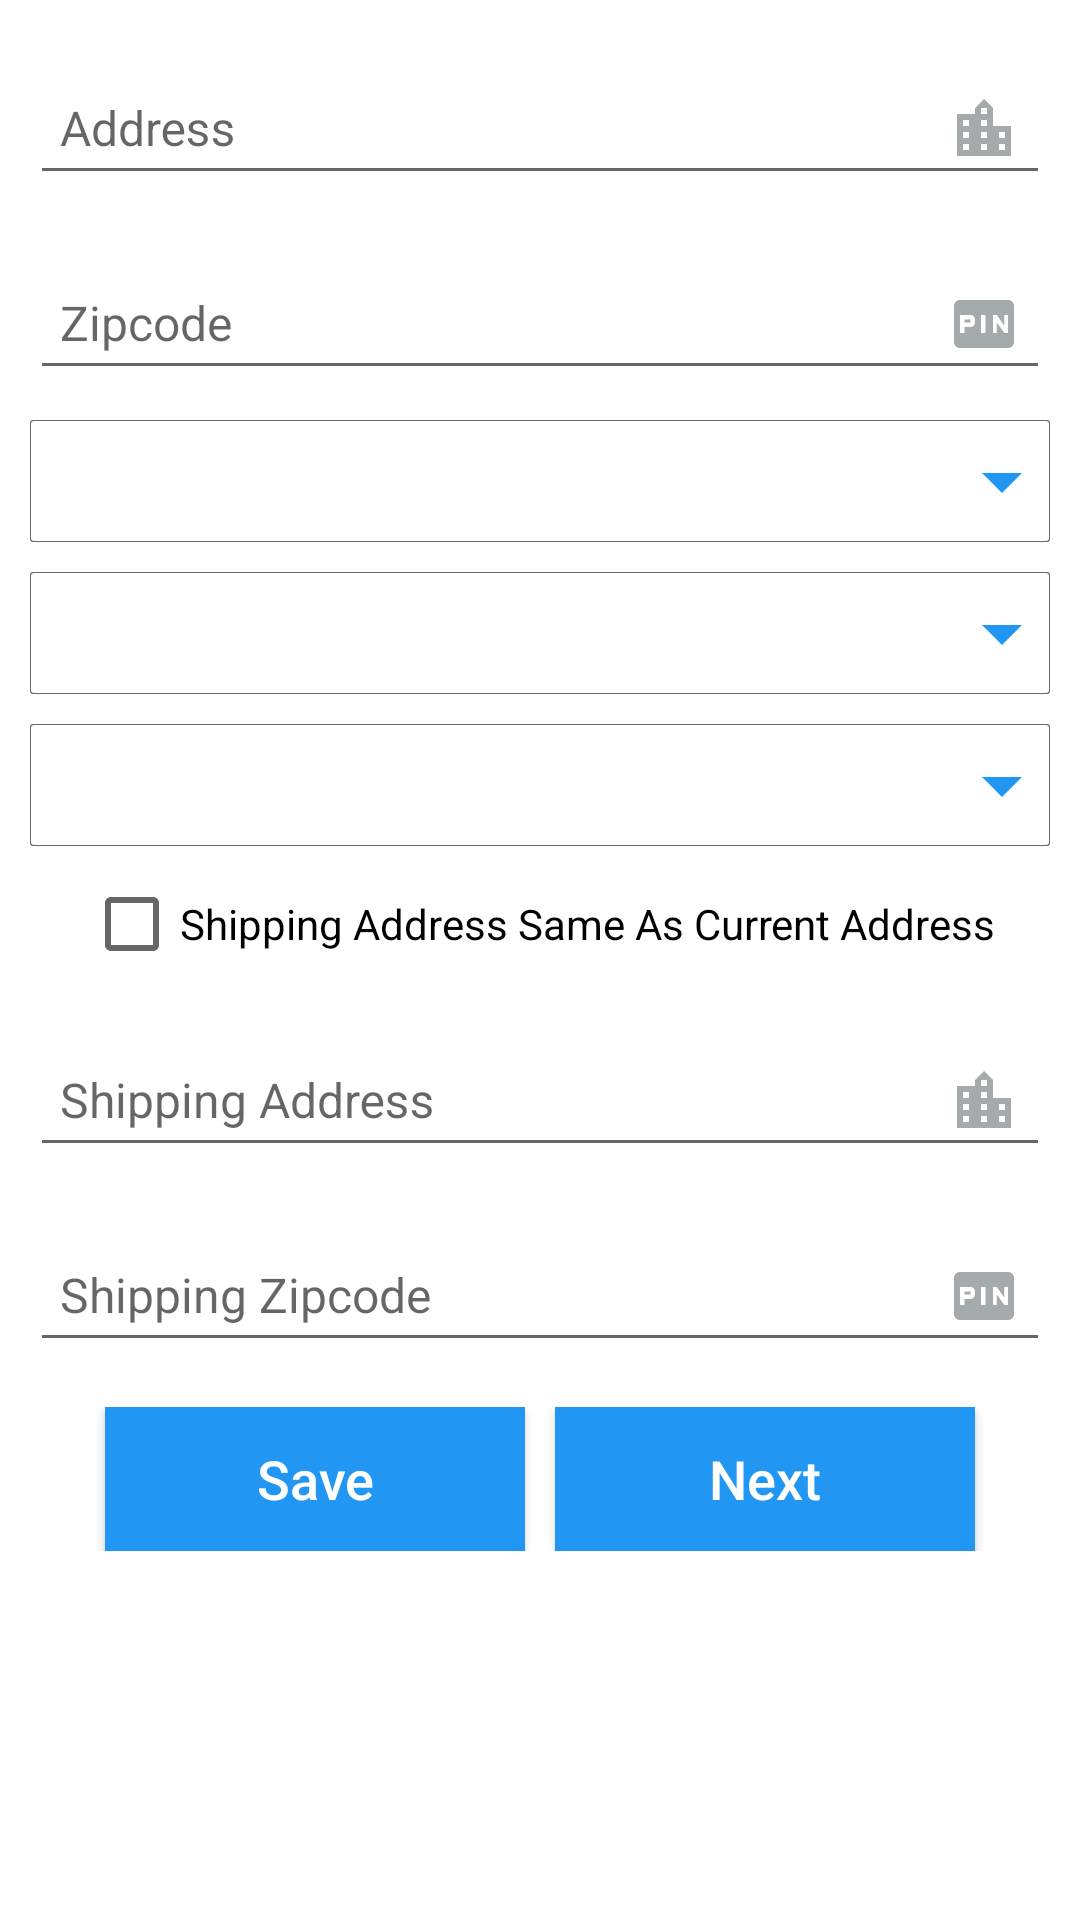

Locate icon controls on the screen. Image size 1080x1920, boxes as (x1, y1, x2, y2).
arrow drop down: (982, 473, 1022, 493), (982, 625, 1022, 645), (982, 777, 1022, 797)
